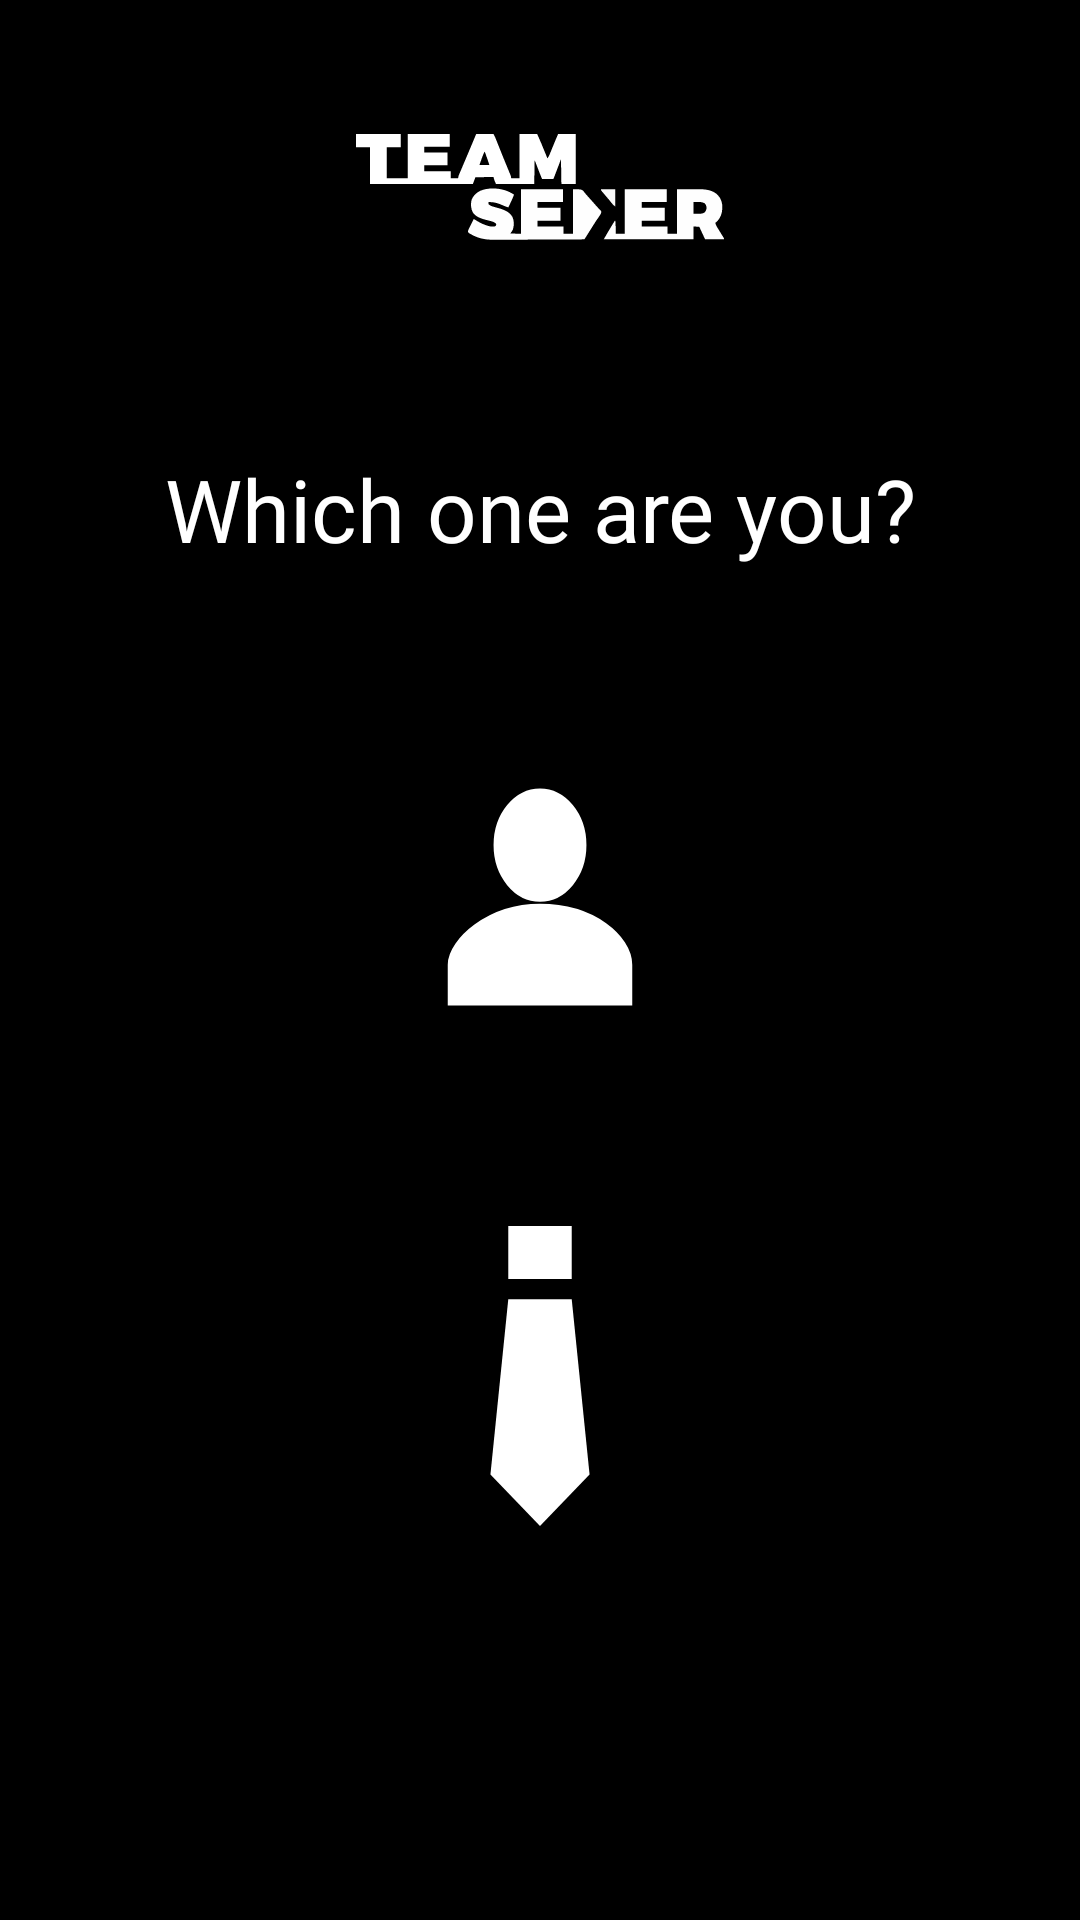

Icons on this 1080×1920 Android screen, each with the point to tap as point (x, y):
person: point (540, 897)
tie: point (540, 1376)
